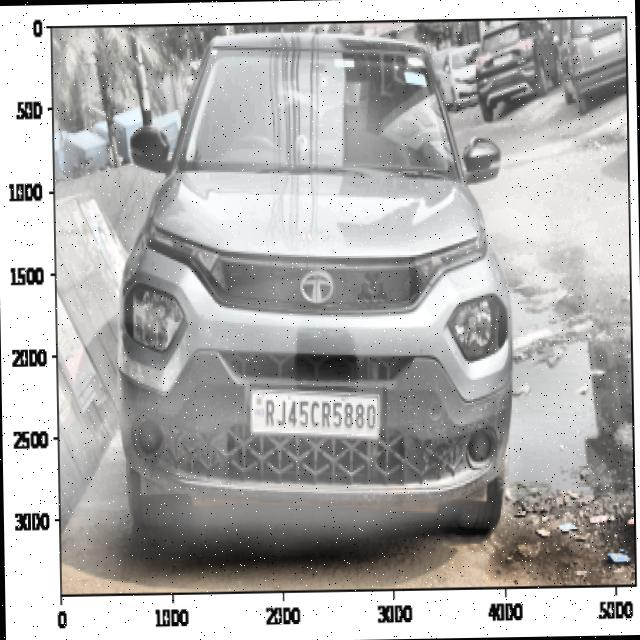license_plate: (257, 390, 380, 440)
